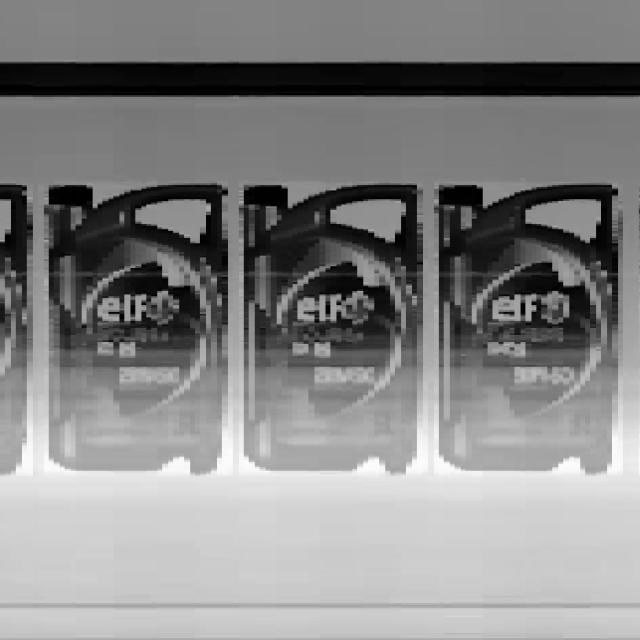motor_oil: (434, 179, 626, 479), (241, 175, 426, 480), (42, 177, 230, 477)
